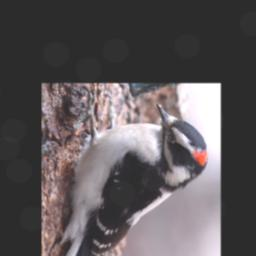Woodpecker: (51, 99, 211, 256)
